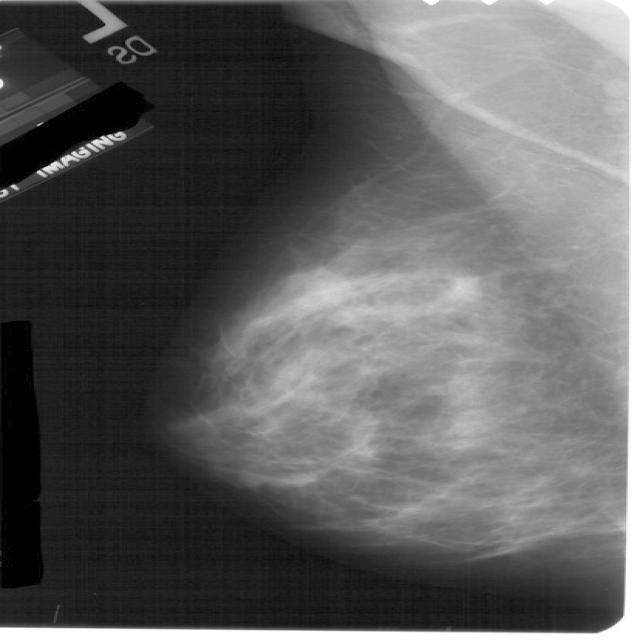tumour: (442, 277, 482, 303)
